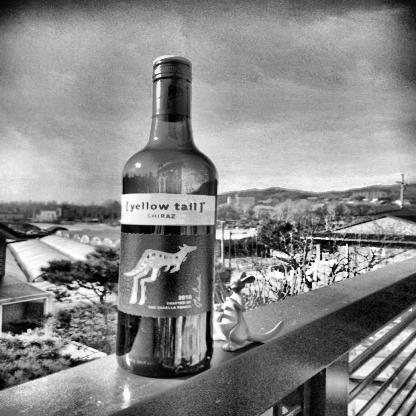yellowtail: (122, 192, 214, 312)
